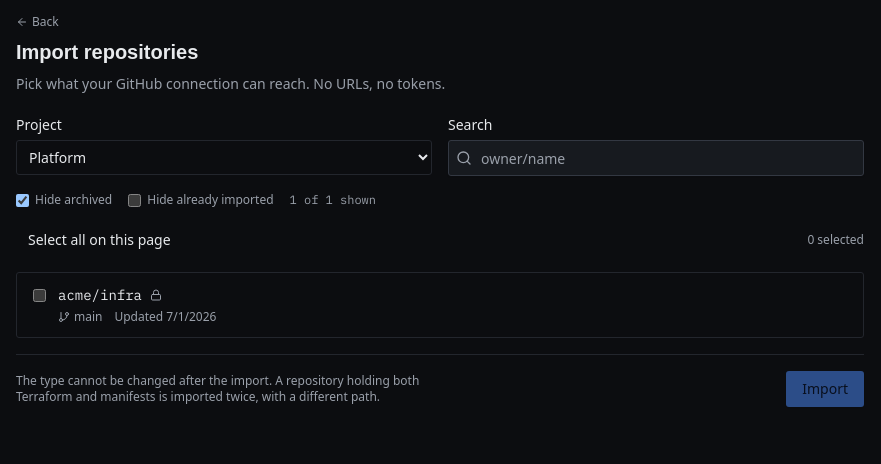
Scenario: refuses to import while a selected row has no type
This screenshot has width=881, height=464.
What coordinates should you click on to do the following:
click the checkbox named "Select acme/infra"
I would click on:
 (40, 296)
Its box is [33,289,46,302].
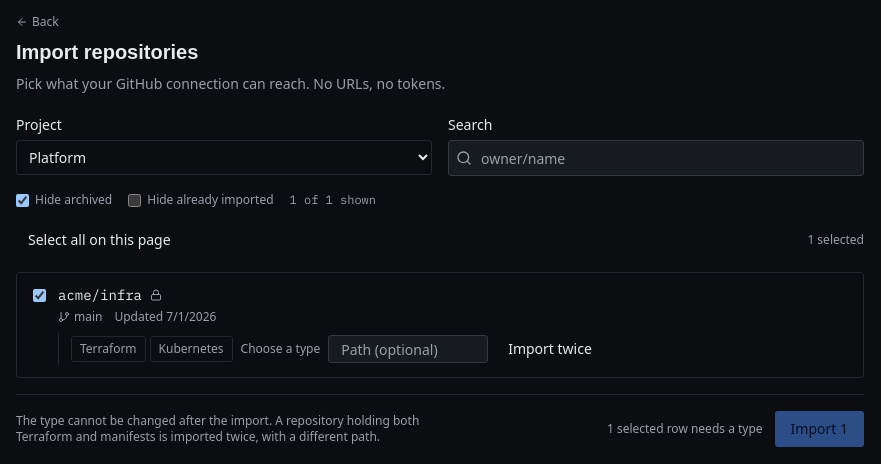
expect the button with test id "import-submit" is disabled: met, box [775,411,864,447]
expect the text "1 selected row needs a type" is shown: met, box [607,421,763,437]
What coordinates should you click on to do the following:
click the button "Kubernetes"
I would click on:
 (191, 349)
Its box is [150,336,233,362].
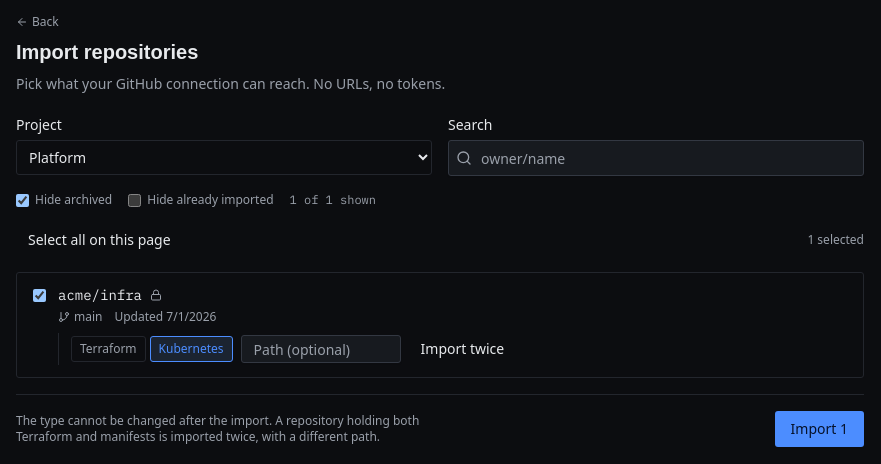
expect the button with test id "import-submit" is enabled: met, box [775,411,864,447]
